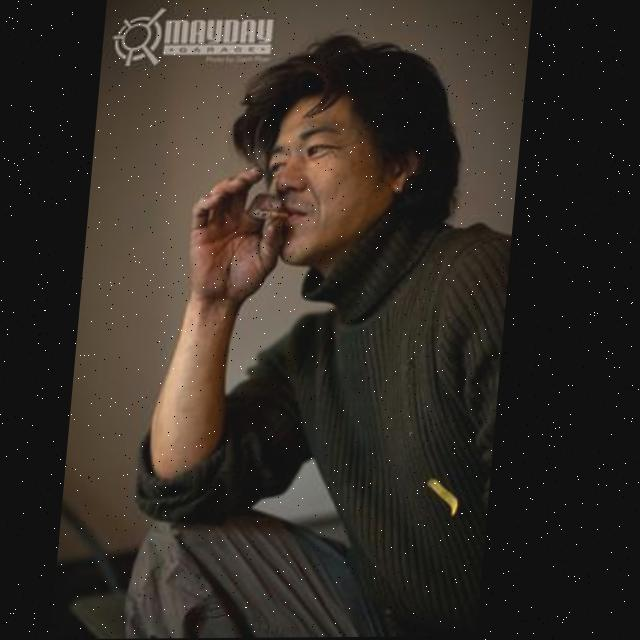cigarette: (253, 208, 296, 221)
